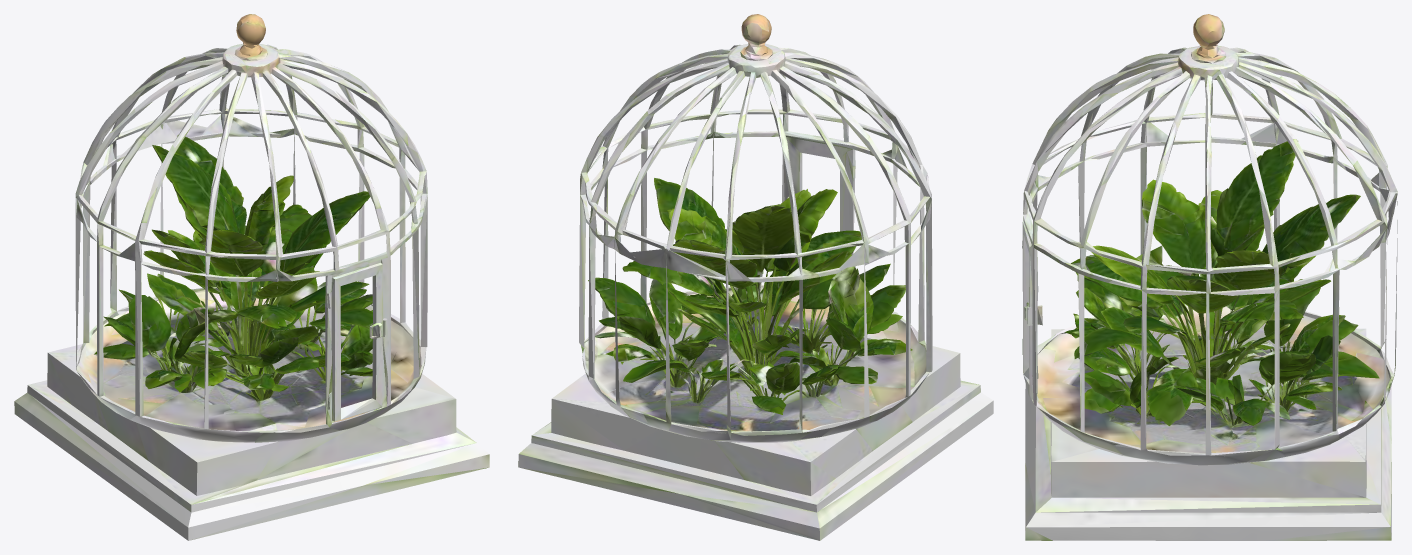
Rendered from lm_eco_conservatory.glb.
3 views of the same model, side by side, from view 1: azimuth 30°, elevation 25°; view 2: azimuth 150°, elevation 25°; view 3: azimuth 270°, elevation 25° (orthographic). The views are drawn at different scales.
Size of the model in its own units: 1.44 by 1.9 by 1.45.
Materials: 1 (1 with a texture image).
